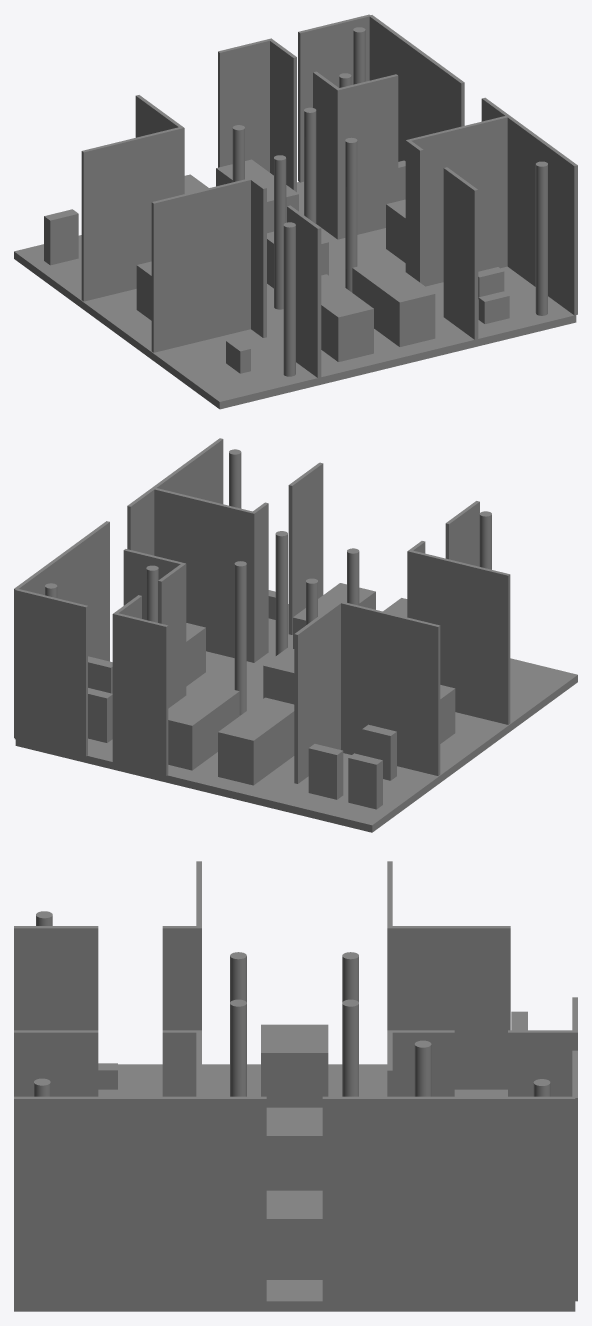
Rendered from TempMap.fbx.
The picture shows the model from 3 angles, top to bottom: view 1: azimuth 30°, elevation 25°; view 2: azimuth 150°, elevation 25°; view 3: azimuth 270°, elevation 25°; orthographic projection. The views are drawn at different scales.
Visible parts, largest first — view 1: Cube__15_; view 2: Cube__15_; view 3: Cube__15_.
Boxes of the visible parts, x1,y1,x2,y2 form: Cube__15_: [14, 14, 577, 409]; Cube__15_: [14, 438, 577, 832]; Cube__15_: [14, 861, 577, 1311].
Size of the model in its own units: 83750 by 35000 by 83750.
